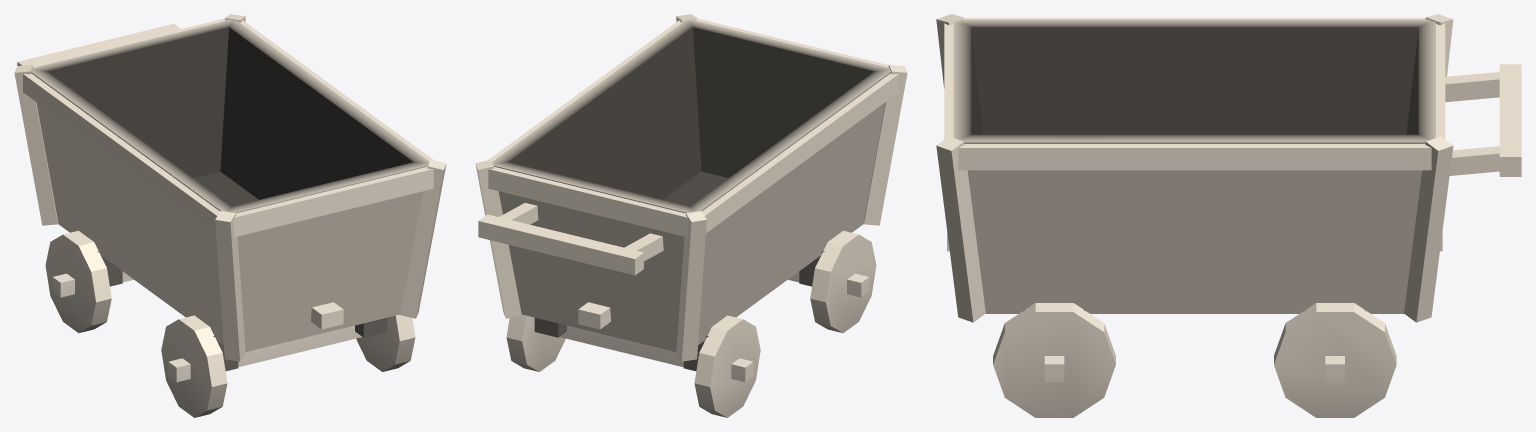
Rendered from SM_VKI_Prop_Mine_Cart.fbx.
3 renders of one model, left to right at view 1: azimuth 30°, elevation 25°; view 2: azimuth 150°, elevation 25°; view 3: azimuth 270°, elevation 25°, orthographic. The views are drawn at different scales.
Parts seen in each view (by area): view 1: SM_VKI_Prop_Mine_Cart.001; view 2: SM_VKI_Prop_Mine_Cart.001; view 3: SM_VKI_Prop_Mine_Cart.001.
Part boxes in pixels (left/top/right/bottom): SM_VKI_Prop_Mine_Cart.001: left=14, top=14, right=446, bottom=417; SM_VKI_Prop_Mine_Cart.001: left=475, top=14, right=907, bottom=417; SM_VKI_Prop_Mine_Cart.001: left=936, top=14, right=1521, bottom=417.
Bounding box in the file's own units: 0.74 × 0.6999 × 1.33.
